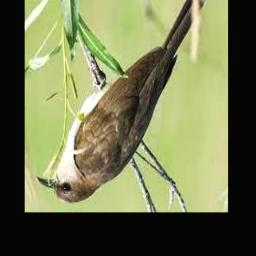Cuckoo: (37, 0, 220, 204)
